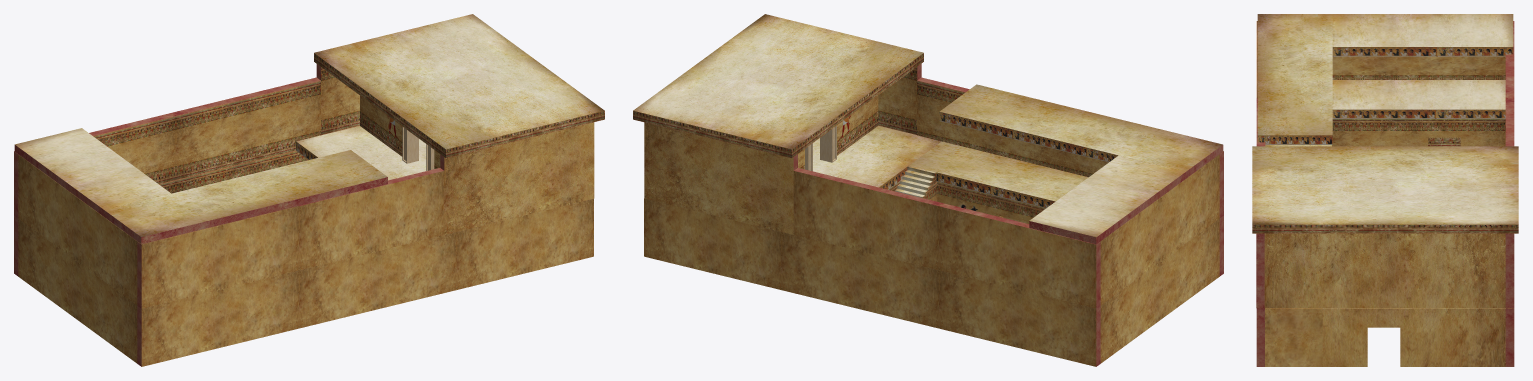
Rendered from Temple.FBX.
3 renders of one model, left to right at view 1: azimuth 30°, elevation 25°; view 2: azimuth 150°, elevation 25°; view 3: azimuth 270°, elevation 25°, orthographic.
Visible parts, largest first — view 1: Wall 3, Ceiling 1, Wall 1, Ceiling 2, Wall 2, Ceiling Interior, Interior Wall 1; view 2: Wall 1, Ceiling 1, Ceiling 2, Wall 2, Ceiling Interior, Wall 3, Interior Wall 1, Interior Wall 4, Stairs; view 3: Wall 4, Ceiling 1, Ceiling 2, Ceiling Interior, Interior Wall 5, Wall 2, Wall 1, Wall 3.
Boxes of the visible parts, x1,y1,x2,y2 form: Wall 3: [137, 122, 594, 366]; Ceiling 1: [314, 14, 604, 158]; Wall 1: [14, 64, 359, 276]; Ceiling 2: [15, 128, 387, 237]; Wall 2: [18, 154, 137, 363]; Ceiling Interior: [14, 126, 426, 244]; Interior Wall 1: [360, 95, 440, 170]; Wall 1: [644, 122, 1100, 366]; Ceiling 1: [633, 14, 923, 158]; Ceiling 2: [940, 84, 1222, 237]; Wall 2: [1100, 154, 1219, 363]; Ceiling Interior: [813, 111, 1223, 244]; Wall 3: [878, 64, 1223, 276]; Interior Wall 1: [798, 95, 878, 171]; Interior Wall 4: [937, 182, 1045, 223]; Stairs: [895, 166, 937, 201]; Wall 4: [1264, 233, 1505, 366]; Ceiling 1: [1252, 146, 1518, 233]; Ceiling 2: [1257, 14, 1513, 135]; Ceiling Interior: [1257, 47, 1513, 146]; Interior Wall 5: [1332, 119, 1505, 146]; Wall 2: [1332, 56, 1505, 146]; Wall 1: [1505, 21, 1514, 366]; Wall 3: [1256, 21, 1265, 366].
Bounding box in the file's own units: 1908 × 575 × 946.
16 materials, 16 textured.
